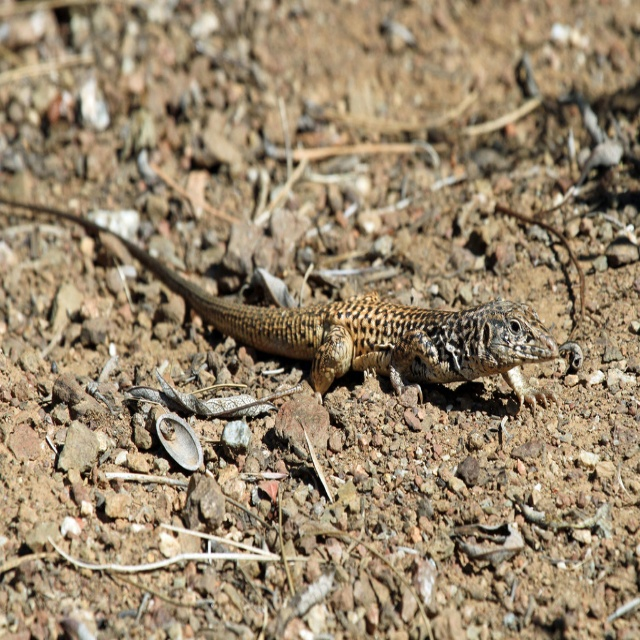Lizard: (37, 232, 597, 435)
